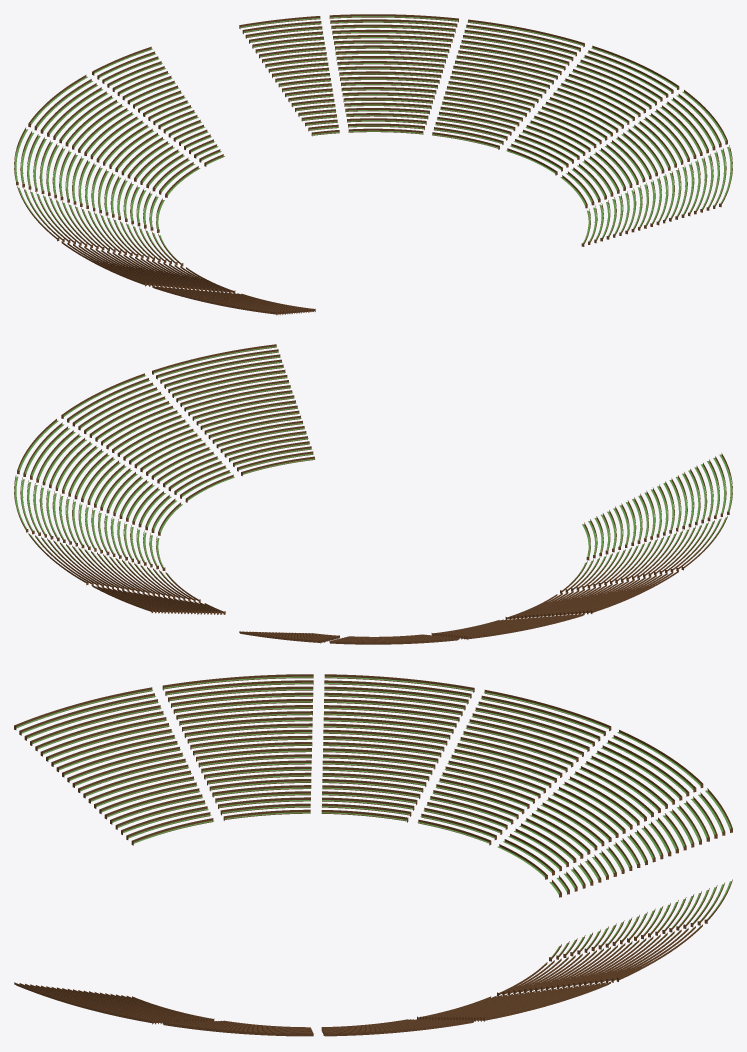
File: mwm_benches.glb
3 views of the same model, one above another, from view 1: azimuth 30°, elevation 25°; view 2: azimuth 150°, elevation 25°; view 3: azimuth 270°, elevation 25° (orthographic). The views are drawn at different scales.
Bounding box in the file's own units: 195 × 17.34 × 165.
Materials: 3 (3 with a texture image).
